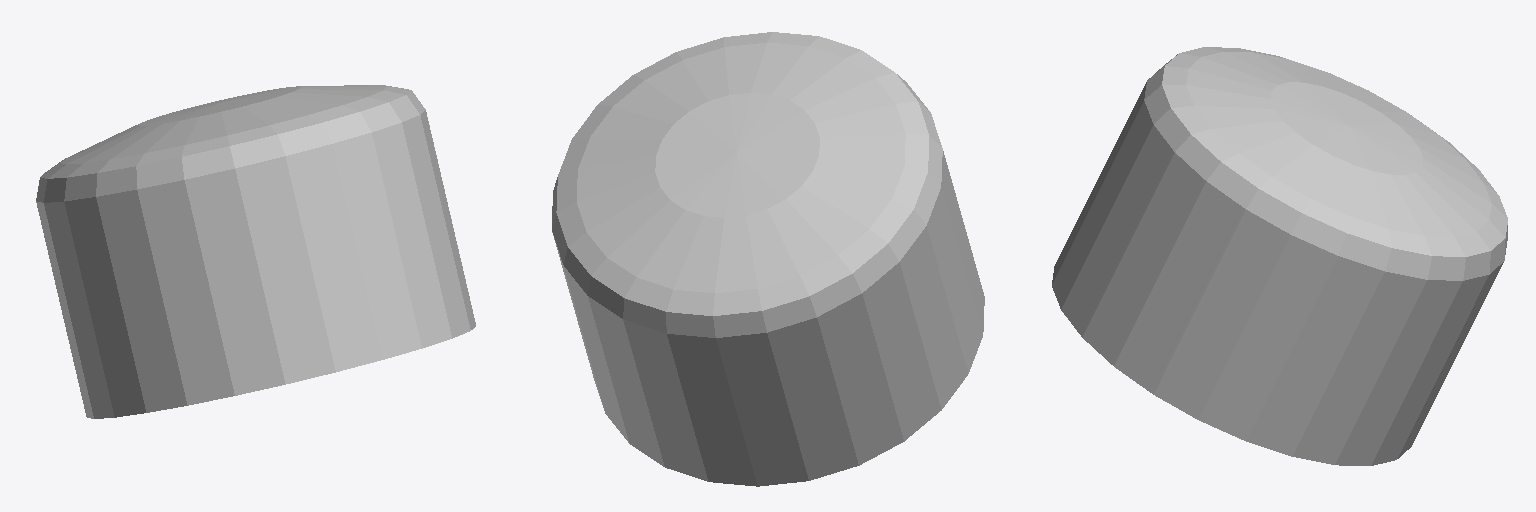
Rendered from button_b.obj.
The picture shows the model from 3 angles: view 1: azimuth 30°, elevation 25°; view 2: azimuth 150°, elevation 25°; view 3: azimuth 270°, elevation 25°; orthographic projection.
Parts seen in each view (by area): view 1: l_button_b; view 2: l_button_b; view 3: l_button_b.
Boxes of the visible parts, x1=… form: l_button_b: x1=36, y1=85, x2=475, y2=418; l_button_b: x1=552, y1=32, x2=984, y2=486; l_button_b: x1=1052, y1=47, x2=1507, y2=465.
Bounding box in the file's own units: 0.009 × 0.0086 × 0.0102.